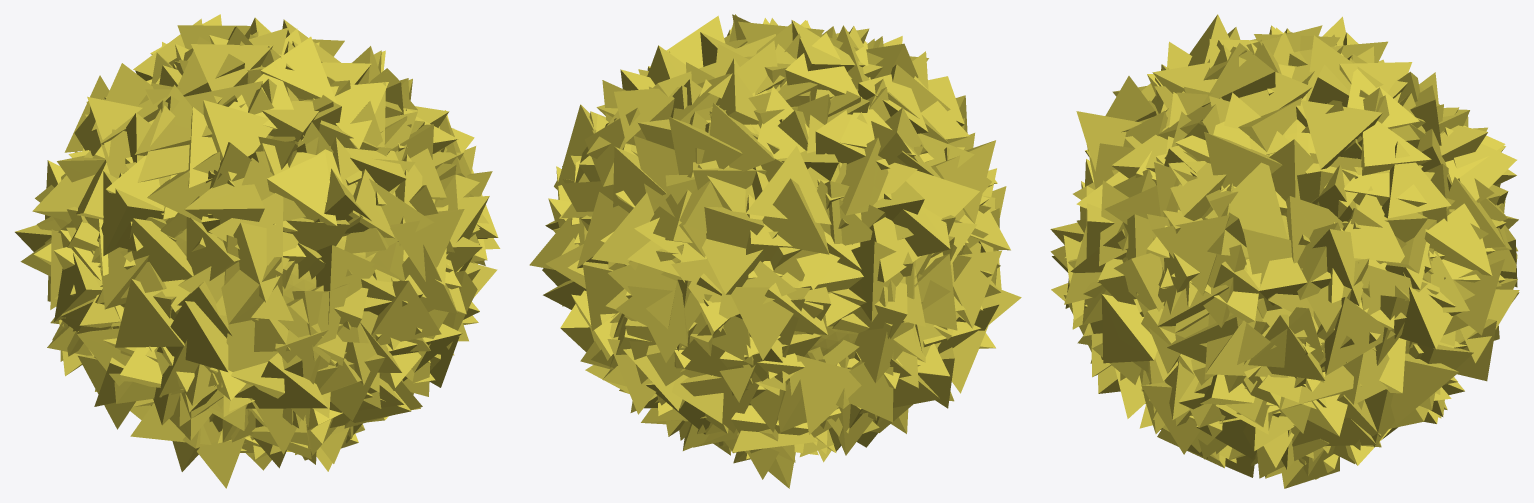
Rendered from Dazzling Albar.glb.
3 views of the same model, side by side, from view 1: azimuth 30°, elevation 25°; view 2: azimuth 150°, elevation 25°; view 3: azimuth 270°, elevation 25° (orthographic).
Visible parts, largest first — view 1: Mesh_Mesh_head_geo.001_lambert2SG.001; view 2: Mesh_Mesh_head_geo.001_lambert2SG.001; view 3: Mesh_Mesh_head_geo.001_lambert2SG.001.
Boxes of the visible parts, bbox=[...] form: Mesh_Mesh_head_geo.001_lambert2SG.001: bbox=[15, 14, 500, 488]; Mesh_Mesh_head_geo.001_lambert2SG.001: bbox=[529, 14, 1021, 488]; Mesh_Mesh_head_geo.001_lambert2SG.001: bbox=[1050, 14, 1519, 488].
Bounding box in the file's own units: 0.02 × 0.02 × 0.02.
